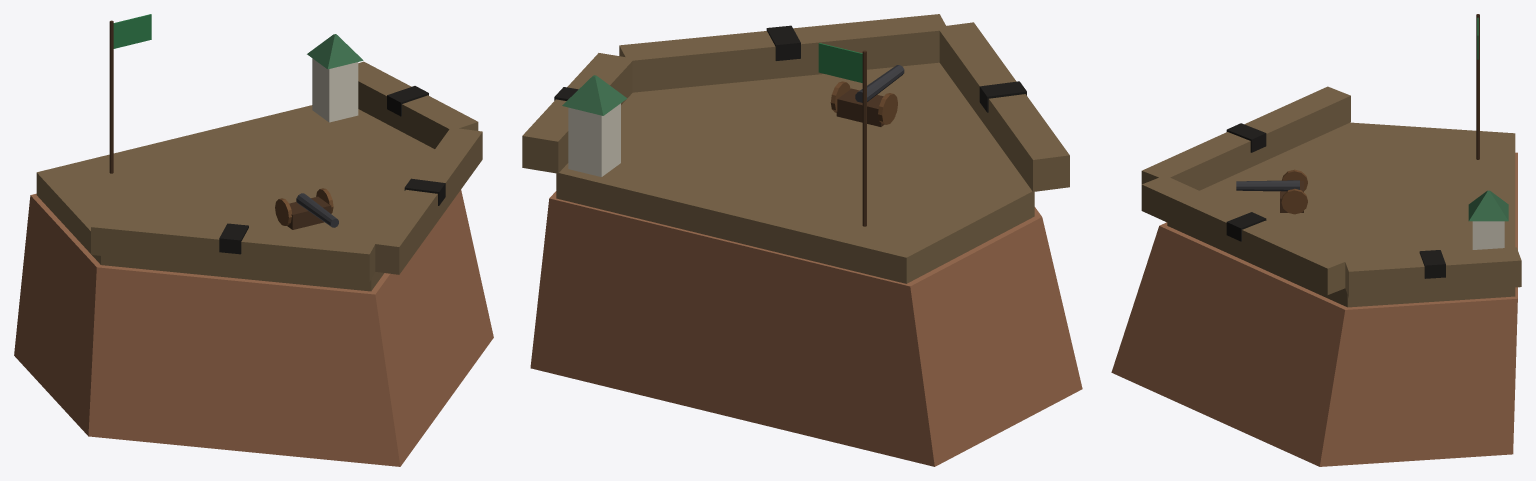
The model's file is tower.glb.
The picture shows the model from 3 angles, left to right: view 1: azimuth 30°, elevation 25°; view 2: azimuth 150°, elevation 25°; view 3: azimuth 270°, elevation 25°; orthographic projection. The views are drawn at different scales.
Visible parts, largest first — view 1: Tower; view 2: Tower; view 3: Tower.
Part boxes in pixels (<box>): Tower: <box>14,14,493,466</box>; Tower: <box>522,14,1082,466</box>; Tower: <box>1111,14,1521,466</box>.
Size of the model in its own units: 16.8 by 13.05 by 15.44.
